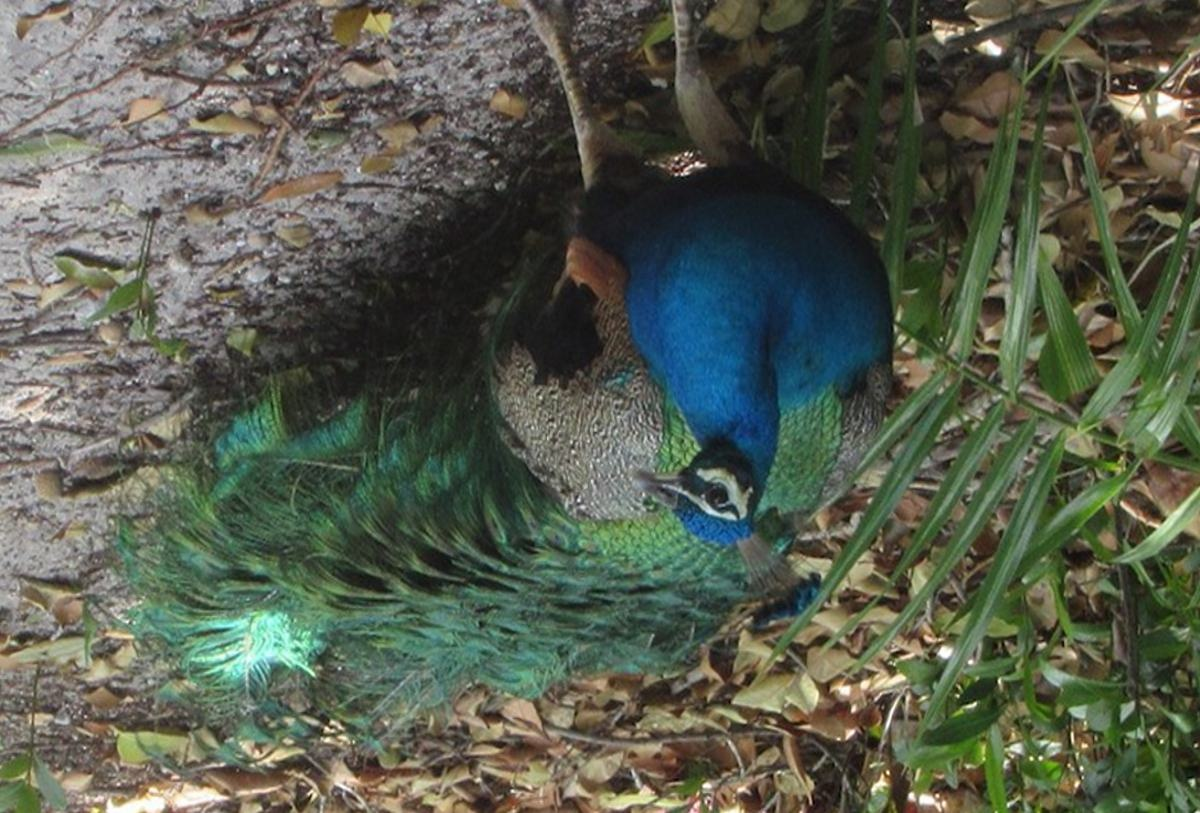peacock: (229, 83, 957, 714)
